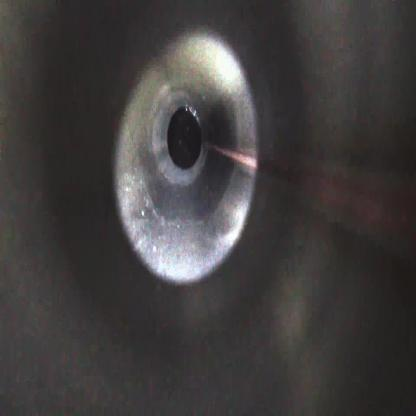NoCrack: (114, 26, 260, 282)
